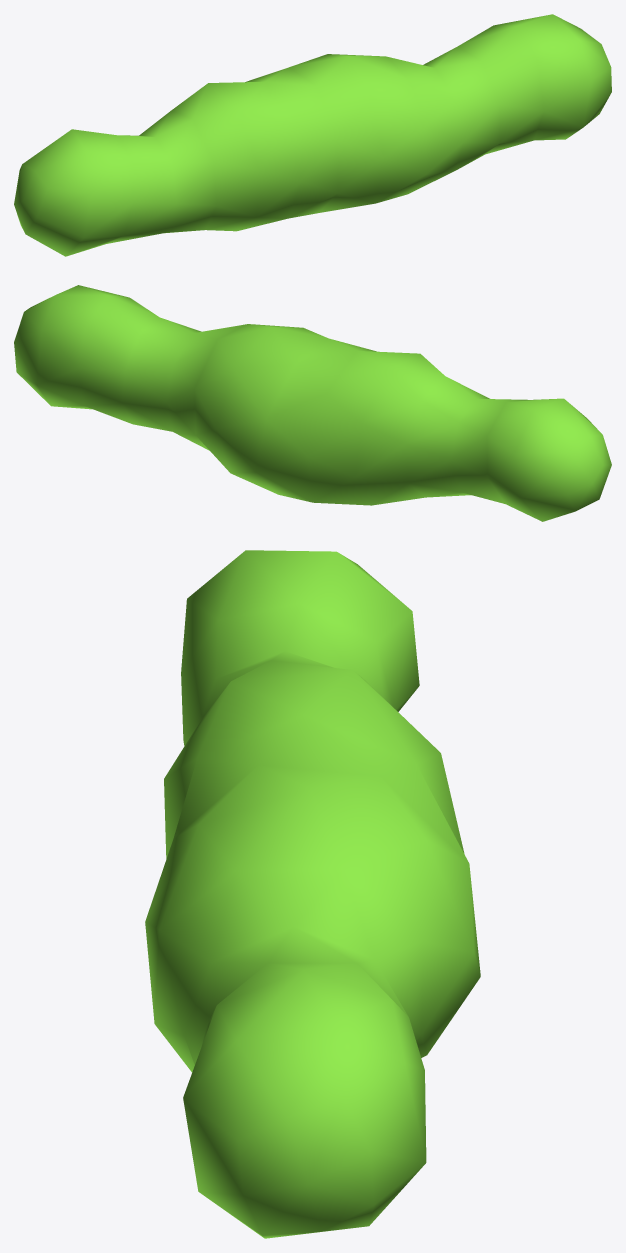
File: p_mesh_trashbot_slimewave01.fbx
The picture shows the model from 3 angles, top to bottom: view 1: azimuth 30°, elevation 25°; view 2: azimuth 150°, elevation 25°; view 3: azimuth 270°, elevation 25°; orthographic projection. The views are drawn at different scales.
Parts seen in each view (by area): view 1: p_trashbot_slimewave04.001; view 2: p_trashbot_slimewave04.001; view 3: p_trashbot_slimewave04.001.
Part boxes in pixels (x1,y1,x2,y2): p_trashbot_slimewave04.001: (14, 14, 611, 256); p_trashbot_slimewave04.001: (14, 285, 611, 521); p_trashbot_slimewave04.001: (145, 550, 480, 1238).
Bounding box in the file's own units: 28.32 × 7.1 × 7.1.
